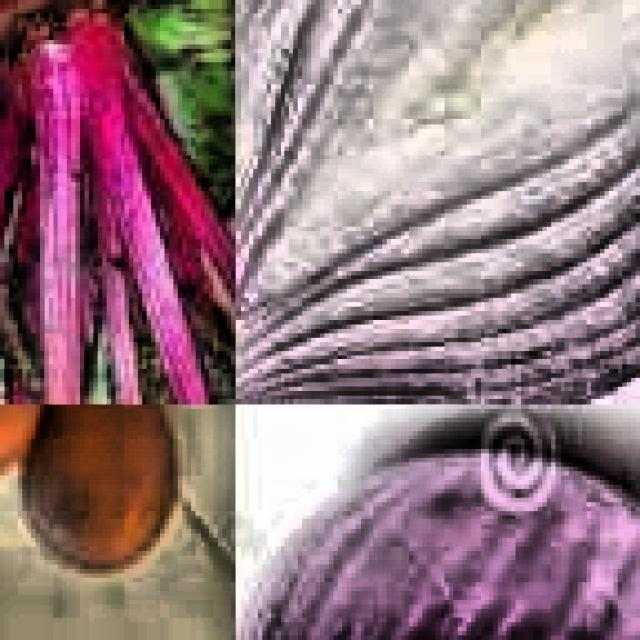egg: (0, 404, 209, 618), (0, 404, 76, 520)
onion: (235, 0, 640, 405), (235, 440, 640, 640), (466, 0, 640, 405)
